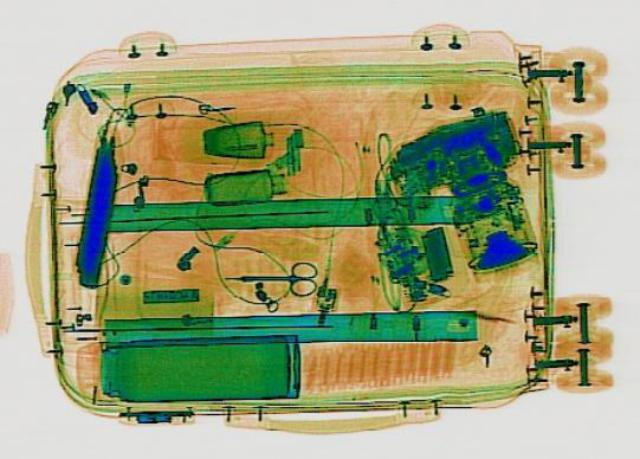Scissors: (226, 258, 316, 294)
